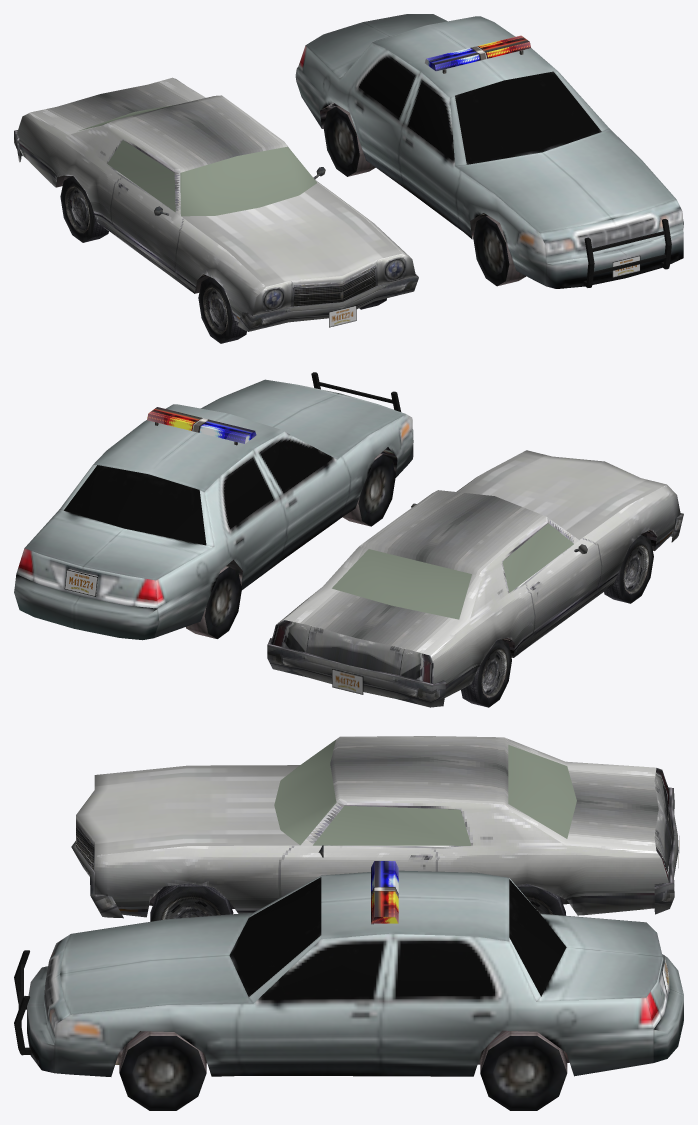
The model's file is bluepirnts.fbx.
The picture shows the model from 3 angles, top to bottom: view 1: azimuth 30°, elevation 25°; view 2: azimuth 150°, elevation 25°; view 3: azimuth 270°, elevation 25°; orthographic projection. The views are drawn at different scales.
Parts seen in each view (by area): view 1: copCar_LOD0, montecarlo70_LOD0, copCarDetail_LOD0; view 2: copCar_LOD0, montecarlo70_LOD0, copCarDetail_LOD0, montecarlo70_Placa; view 3: copCar_LOD0, montecarlo70_LOD0, copCarDetail_LOD0.
Boxes of the visible parts, x1,y1,x2,y2 form: copCar_LOD0: [295, 14, 683, 288]; montecarlo70_LOD0: [14, 77, 418, 343]; copCarDetail_LOD0: [425, 35, 671, 287]; copCar_LOD0: [14, 379, 413, 640]; montecarlo70_LOD0: [267, 450, 683, 707]; copCarDetail_LOD0: [64, 372, 400, 596]; montecarlo70_Placa: [332, 669, 363, 694]; copCar_LOD0: [27, 870, 683, 1110]; montecarlo70_LOD0: [71, 736, 678, 921]; copCarDetail_LOD0: [14, 861, 669, 1055].
Size of the model in its own units: 506 by 165 by 561.
